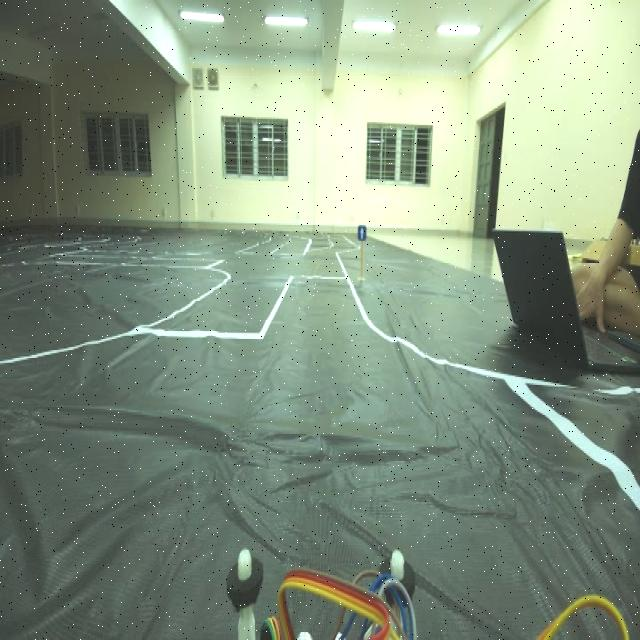onewayroad: (354, 225, 373, 244)
